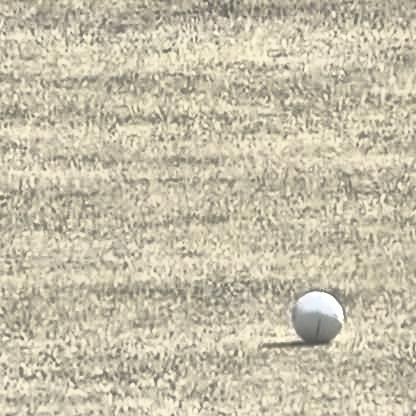golfball: (293, 293, 335, 335)
